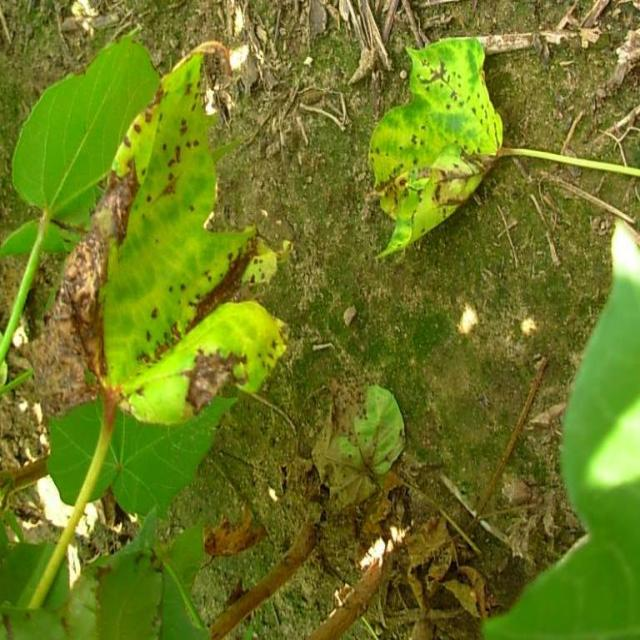Bacterial Blight: (109, 85, 253, 407)
